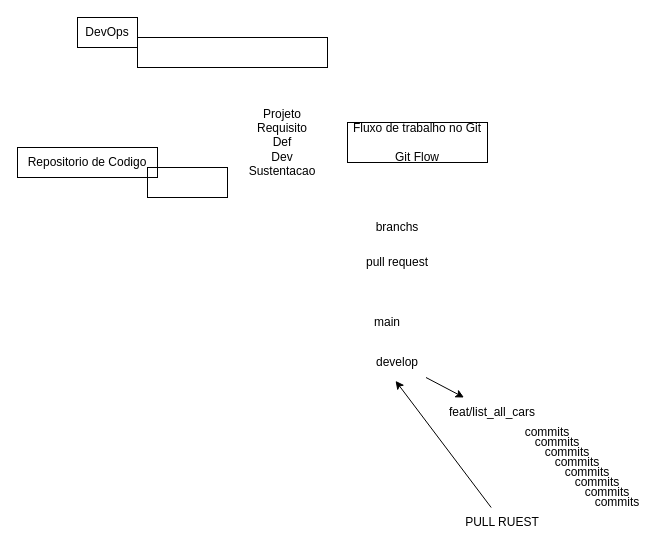
The diagram is 665 pixels wide and 555 high, and some of its shapes have lost their labels. The shapes that lost their labels are listed below. From the top down, each one's box as (x1, y1, x2, y2) in pixels, then its label:
(136, 36, 328, 68): CI - Continues Integration CD - Continues Delivery
(146, 166, 228, 198): GithubActions
